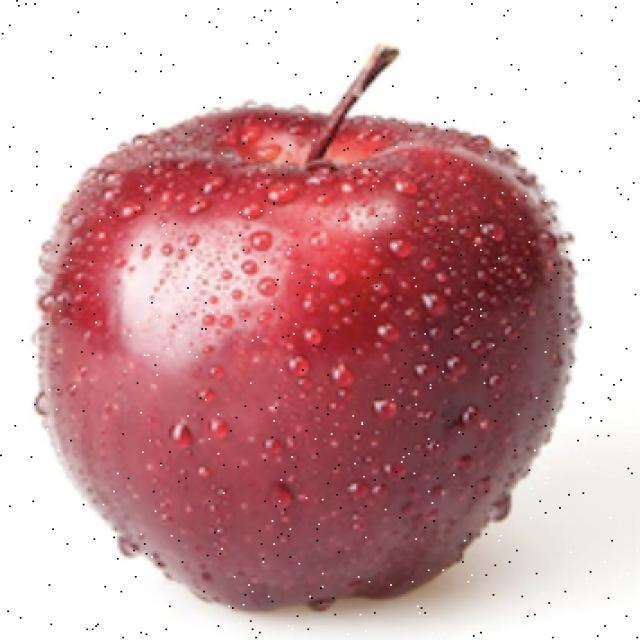Fresh Apple: (63, 81, 573, 640)
